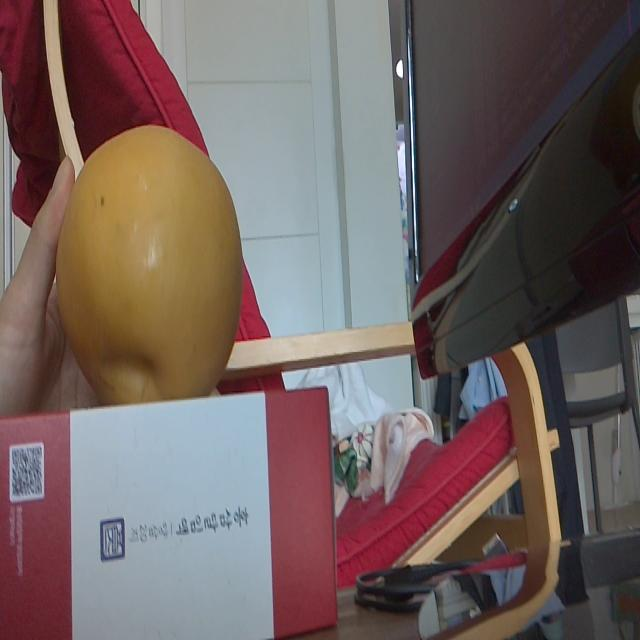pear: (55, 120, 245, 399)
